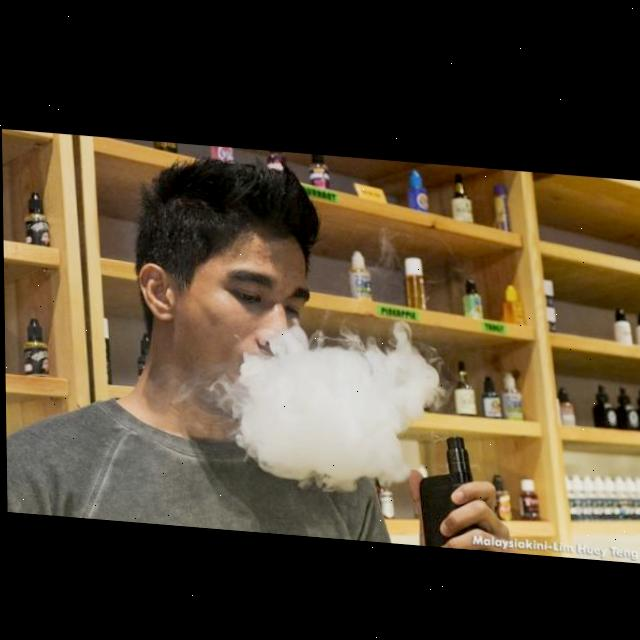vape: (418, 426, 474, 543)
